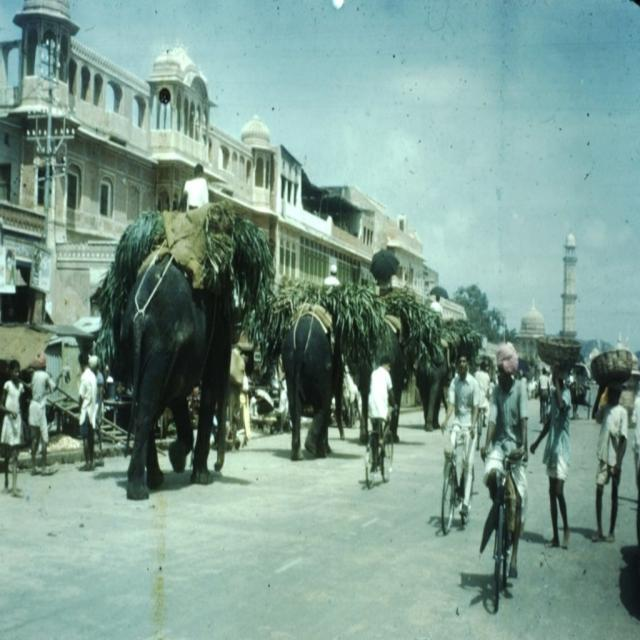elephant: (94, 194, 274, 496), (277, 296, 349, 464)
